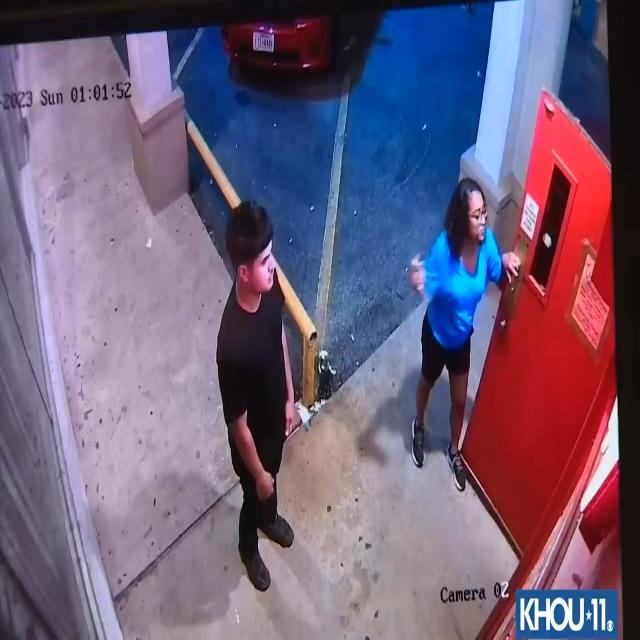Person: (407, 163, 521, 497), (215, 192, 299, 592)
